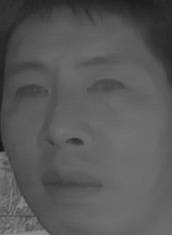eye: (85, 74, 126, 98), (11, 81, 50, 104)
mouth: (36, 163, 104, 206)
